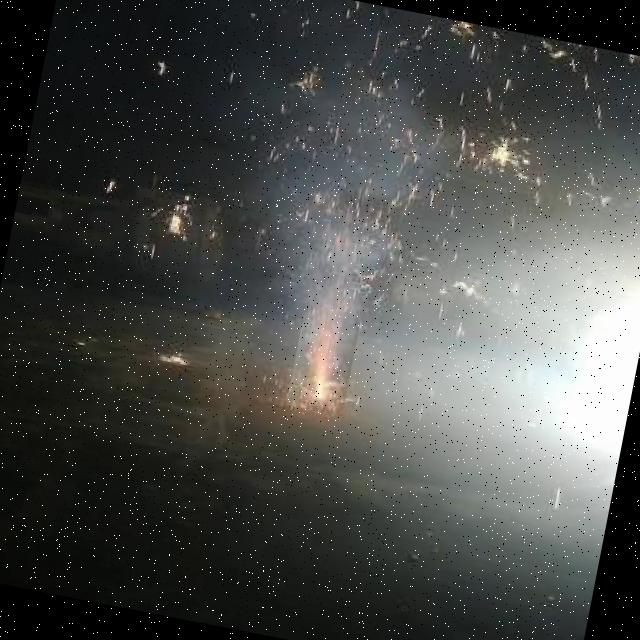fire: (286, 304, 362, 416)
